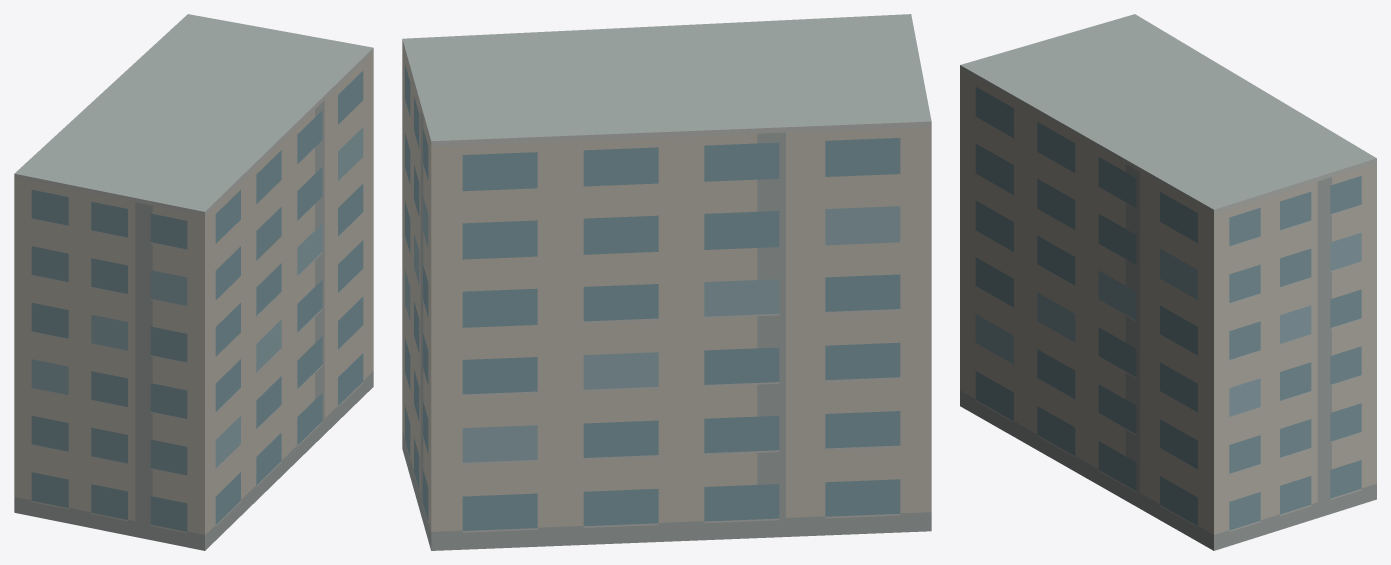
File: survey-upis-32814808.glb
3 views of the same model, side by side, from view 1: azimuth 30°, elevation 25°; view 2: azimuth 150°, elevation 25°; view 3: azimuth 270°, elevation 25° (orthographic). The views are drawn at different scales.
Parts seen in each view (by area): view 1: survey-upis-32814808.tmp; view 2: survey-upis-32814808.tmp; view 3: survey-upis-32814808.tmp.
Part boxes in pixels (<box>): survey-upis-32814808.tmp: <box>14,14,373,550</box>; survey-upis-32814808.tmp: <box>402,14,931,550</box>; survey-upis-32814808.tmp: <box>960,14,1376,550</box>.
Bounding box in the file's own units: 23.15 × 18.8 × 20.83.
